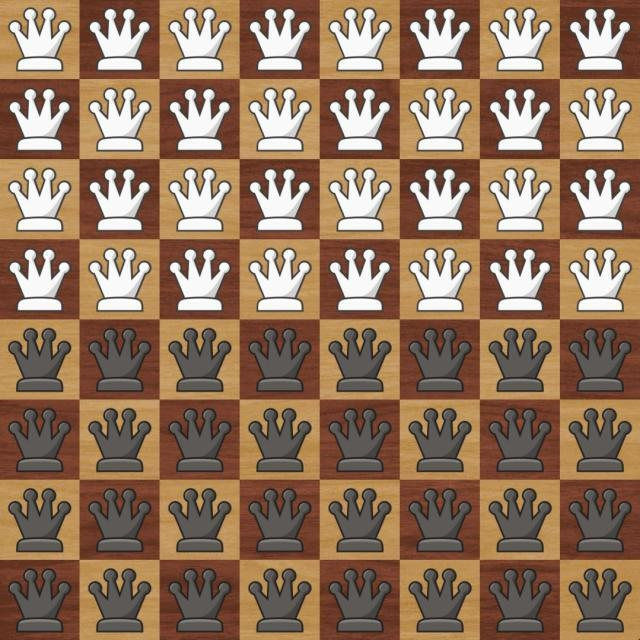black-queen: (8, 328, 72, 392), (88, 329, 152, 393), (168, 328, 232, 392), (248, 328, 312, 392), (329, 328, 393, 392), (408, 328, 472, 392), (488, 328, 552, 392), (569, 328, 633, 392), (568, 408, 632, 472), (488, 408, 552, 472), (409, 409, 473, 473), (328, 408, 392, 472), (248, 409, 312, 473), (168, 408, 232, 472), (88, 408, 152, 472), (8, 408, 72, 472), (7, 489, 71, 553), (88, 488, 152, 552), (168, 489, 232, 553), (248, 489, 312, 553), (328, 488, 392, 552), (408, 488, 472, 552), (489, 489, 553, 553), (568, 489, 632, 553), (568, 568, 632, 632), (488, 568, 552, 632), (409, 569, 473, 633), (329, 568, 393, 632), (248, 569, 312, 633), (168, 569, 232, 633), (88, 569, 152, 633), (9, 569, 73, 633)
white-queen: (8, 7, 72, 71), (88, 7, 152, 71), (168, 8, 232, 72), (248, 8, 312, 72), (328, 7, 392, 71), (408, 7, 472, 71), (488, 8, 552, 72), (569, 8, 633, 72), (569, 88, 633, 152), (488, 88, 552, 152), (409, 88, 473, 152), (328, 87, 392, 151), (249, 88, 313, 152), (168, 88, 232, 152), (88, 88, 152, 152), (8, 88, 72, 152), (8, 168, 72, 232), (88, 168, 152, 232), (168, 168, 232, 232), (248, 168, 312, 232), (328, 168, 392, 232), (409, 168, 473, 232), (488, 168, 552, 232), (569, 168, 633, 232), (568, 248, 632, 312), (489, 248, 553, 312), (409, 247, 473, 311), (328, 248, 392, 312), (248, 248, 312, 312), (168, 248, 232, 312), (88, 248, 152, 312), (8, 248, 72, 312)
